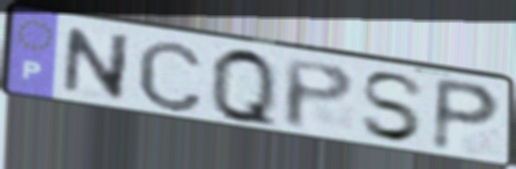C: (134, 37, 206, 115)
N: (58, 25, 135, 104)
P: (428, 74, 505, 155), (282, 56, 358, 132)
Q: (207, 44, 281, 133)
S: (358, 69, 429, 145)
